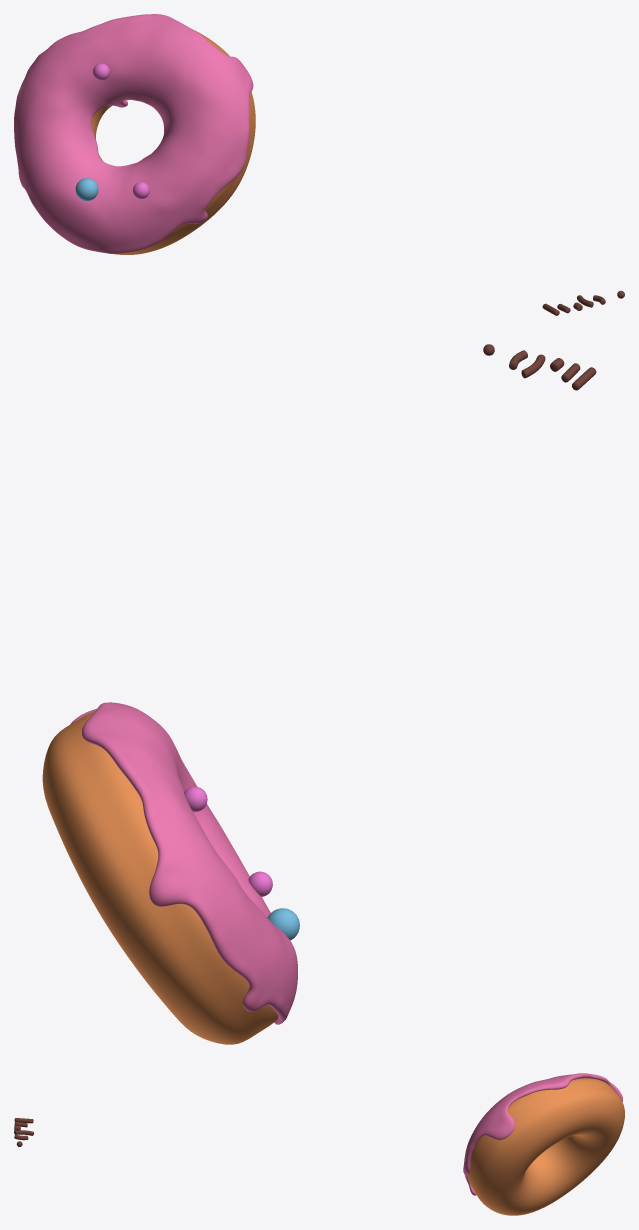
File: Donut.fbx
The picture shows the model from 3 angles, top to bottom: view 1: azimuth 30°, elevation 25°; view 2: azimuth 150°, elevation 25°; view 3: azimuth 270°, elevation 25°; orthographic projection. The views are drawn at different scales.
Visible parts, largest first — view 1: Icing, Donut, Sphere.001; view 2: Donut, Icing; view 3: Donut, Icing.
Boxes of the visible parts, bbox=[...] form: Icing: bbox=[14, 14, 253, 253]; Donut: bbox=[92, 29, 255, 254]; Sphere.001: bbox=[75, 178, 98, 200]; Donut: bbox=[42, 711, 278, 1044]; Icing: bbox=[70, 702, 297, 1024]; Donut: bbox=[467, 1078, 624, 1215]; Icing: bbox=[463, 1073, 622, 1195].
Bounding box in the file's own units: 9.8 × 8.36 × 30.53.
